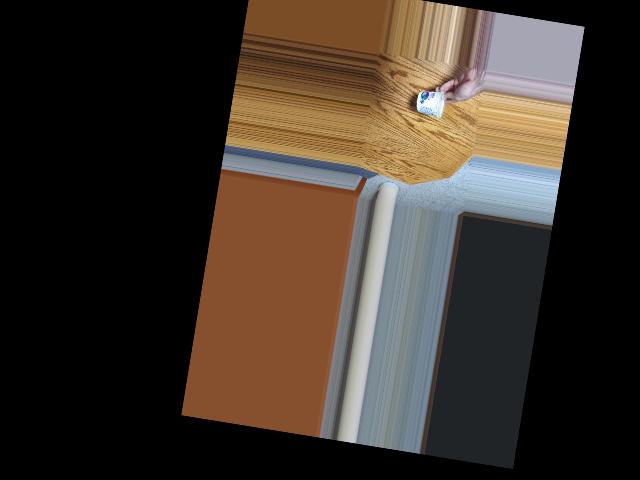cotage: (415, 86, 447, 121)
